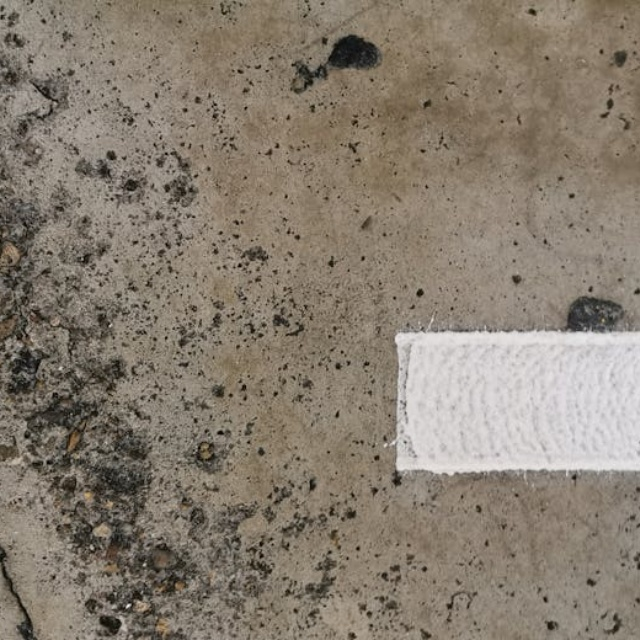细微裂纹: (0, 454, 123, 640)
